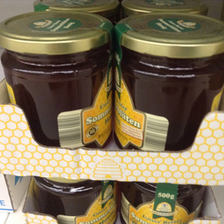honey: (114, 8, 224, 161), (1, 9, 114, 156)
